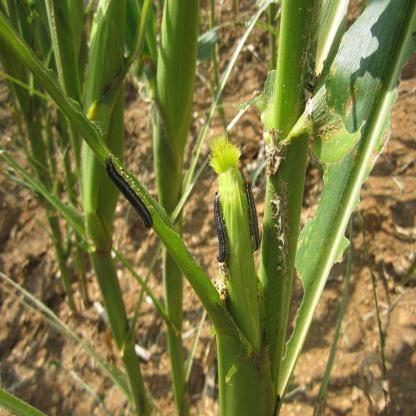armyworm: (101, 155, 155, 229), (242, 173, 264, 252), (211, 185, 230, 267)
